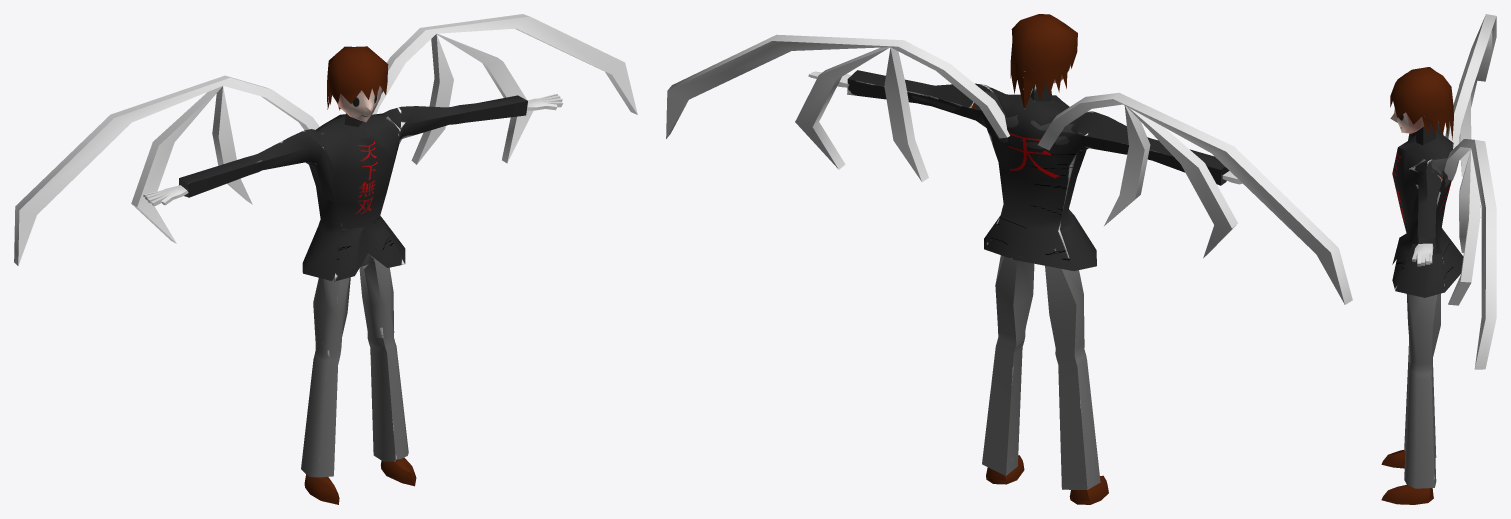
Rendered from tkms_binary.fbx.
The picture shows the model from 3 angles, left to right: view 1: azimuth 30°, elevation 25°; view 2: azimuth 150°, elevation 25°; view 3: azimuth 270°, elevation 25°; orthographic projection. The views are drawn at different scales.
Visible parts, largest first — view 1: wing_1; view 2: wing_1; view 3: wing_1.
Part boxes in pixels (x1,y1,x2,y2): wing_1: (14, 14, 637, 504); wing_1: (666, 14, 1352, 504); wing_1: (1381, 14, 1496, 504).
Bounding box in the file's own units: 308 × 205 × 52.
Materials: 1 (1 with a texture image).
